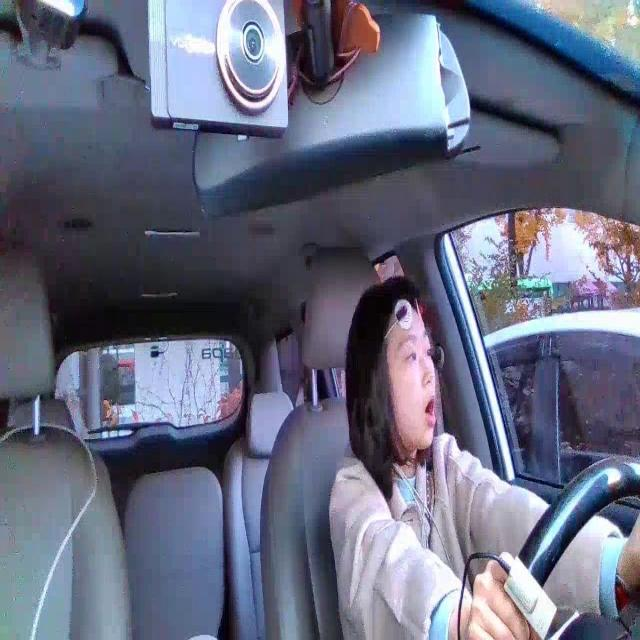Inattentive: (351, 274, 441, 452)
Yawning: (423, 393, 437, 427)
